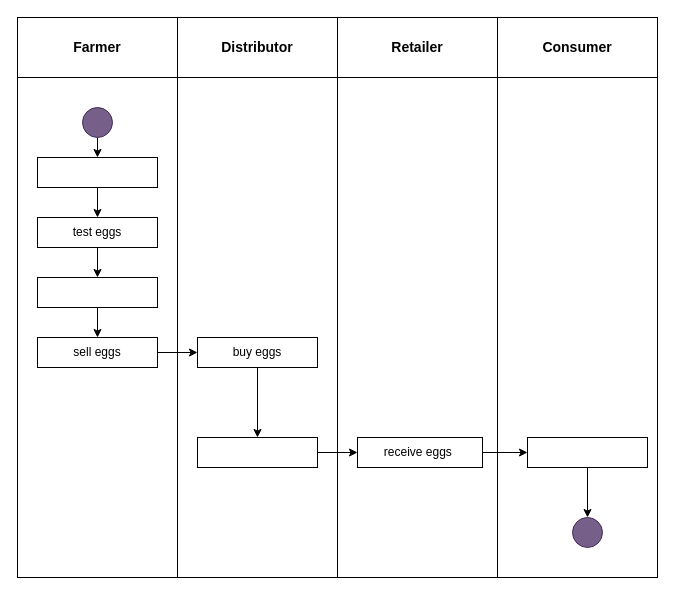
Image size: 675x595. Some labels were removed from this diagram. Each missing label, with the centre of its shape:
"collect eggs" belongs at point (97, 172).
"pack eggs to carton" belongs at point (97, 292).
"purchase eggs" belongs at point (587, 452).
"transport eggs" belongs at point (257, 452).
